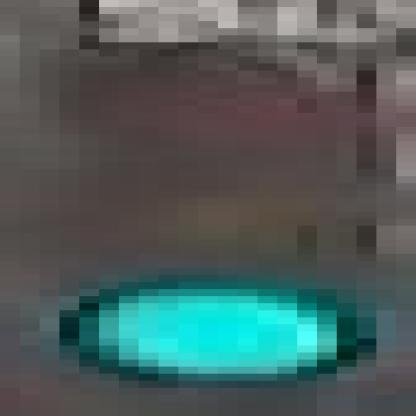Green Light: (56, 45, 394, 397)
